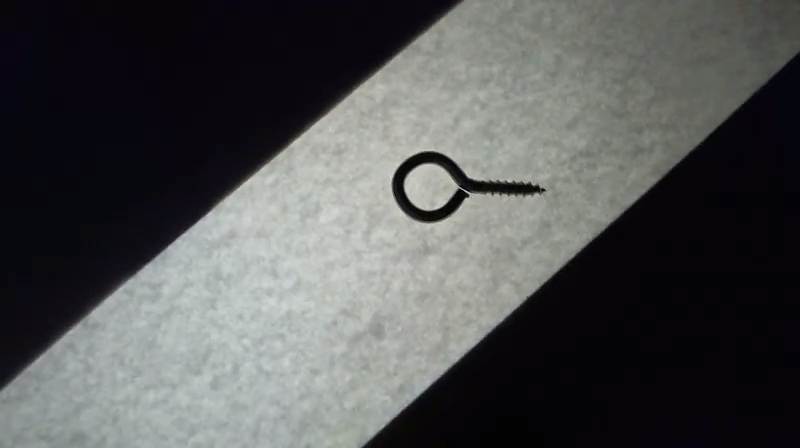O001: (390, 149, 547, 224)
